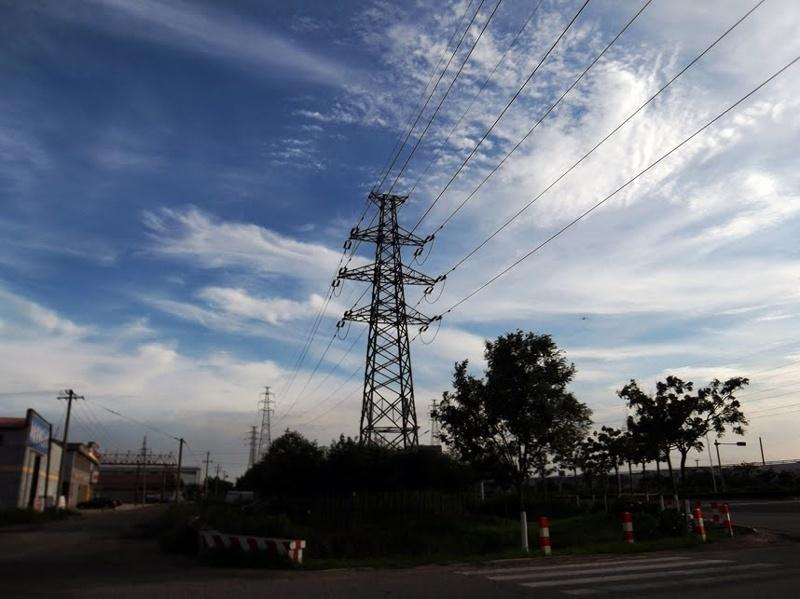power_tower: (332, 194, 445, 447), (256, 385, 276, 466), (243, 425, 261, 474), (427, 393, 442, 448)
